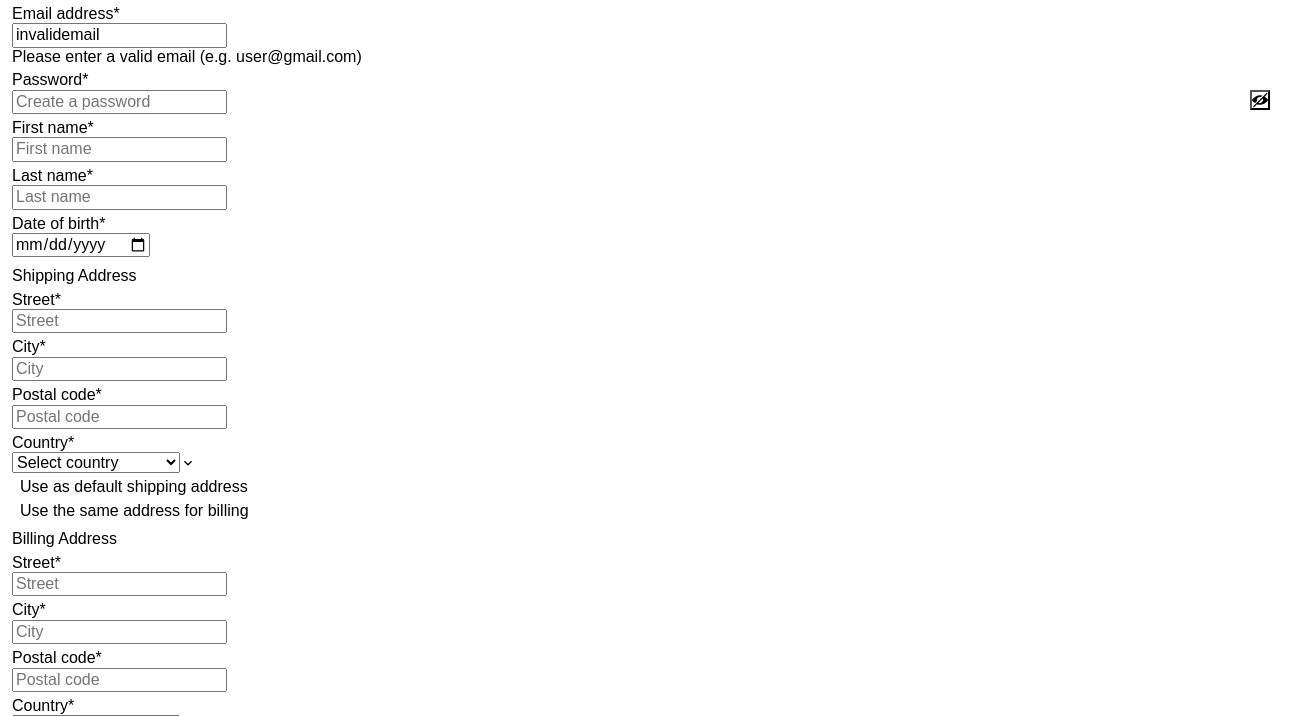
Test case: SignUpForm › should say if no email is entered
The image size is (1292, 716).
Clear the field with placeholder "Please enter email": x=120, y=36 [12,23,227,48]
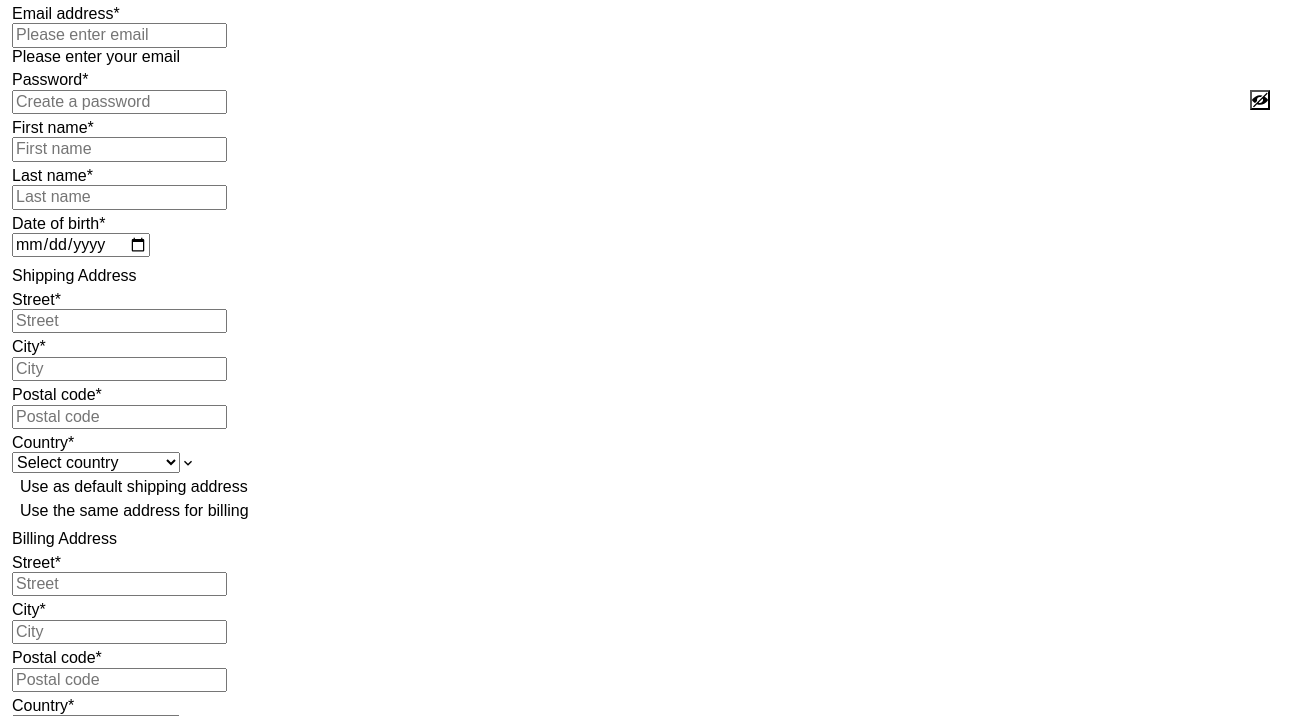
Expected: the text "Please enter your email" is shown, [12,48,180,65]
